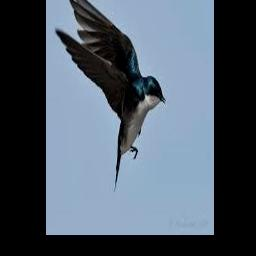Swallow: (55, 0, 165, 190)
